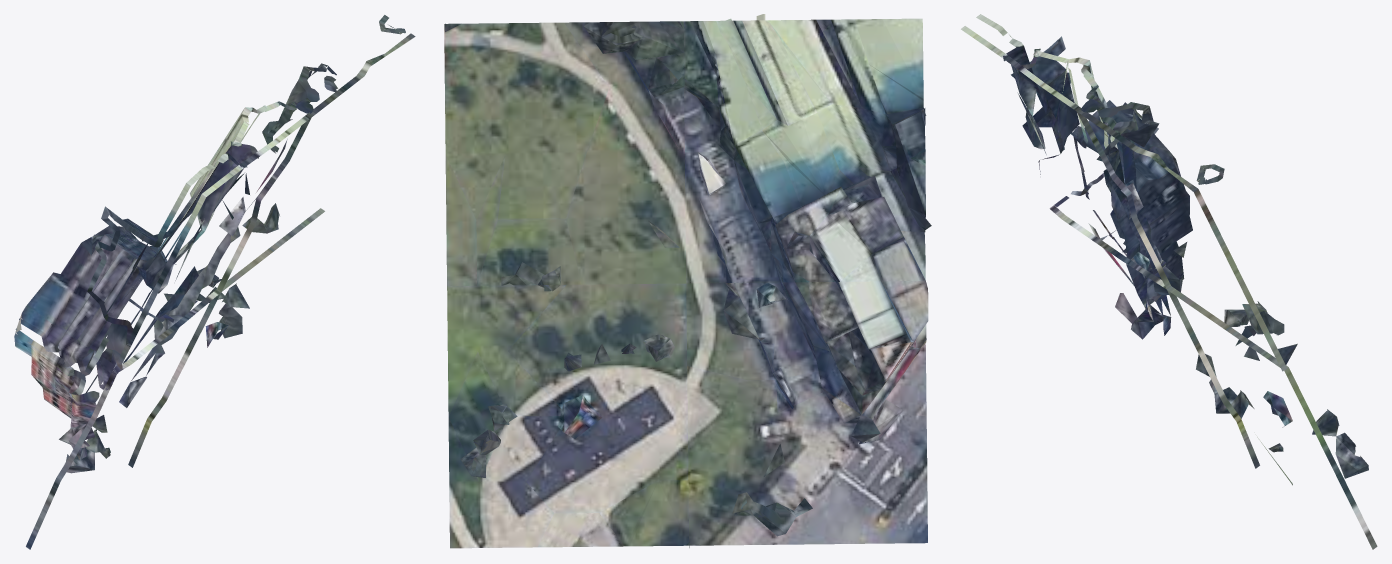
3 renders of one model, left to right at view 1: azimuth 30°, elevation 25°; view 2: azimuth 150°, elevation 25°; view 3: azimuth 270°, elevation 25°, orthographic. The views are drawn at different scales.
Size of the model in its own units: 77.45 by 72.54 by 64.37.
2 materials, 2 textured.
